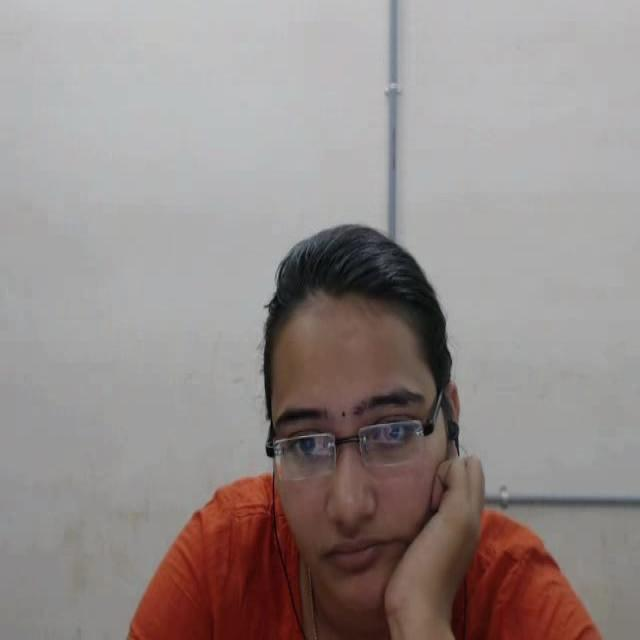Bored: (234, 207, 468, 621)
